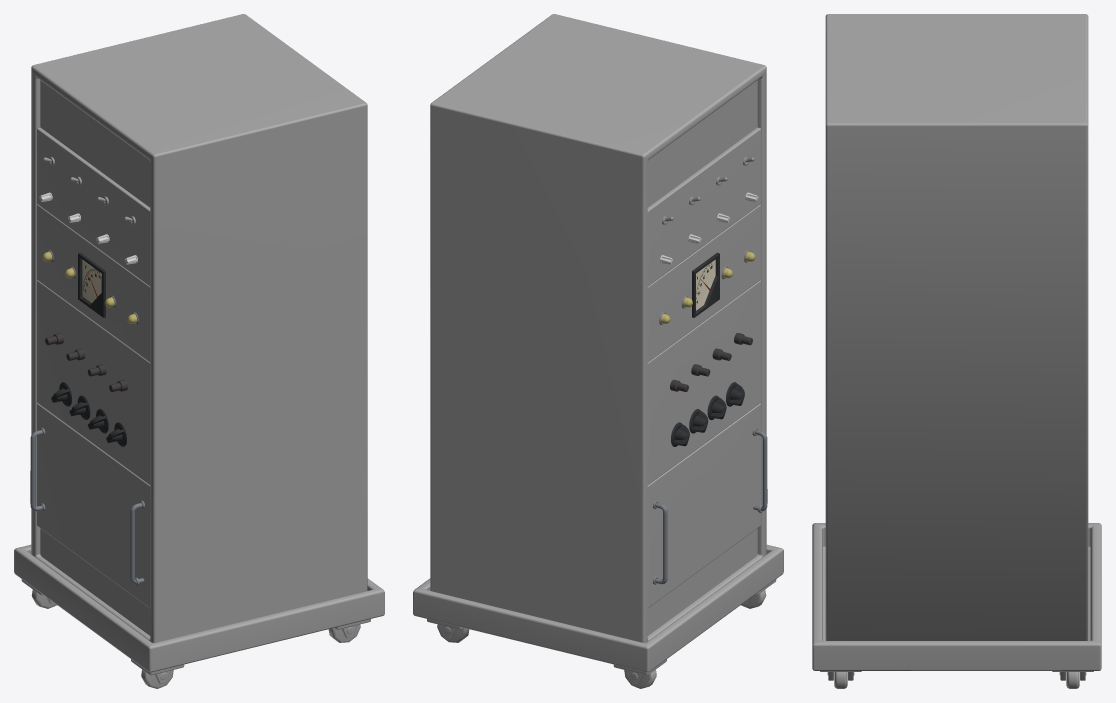
File: SuperCompSmall.fbx
The picture shows the model from 3 angles, left to right: view 1: azimuth 30°, elevation 25°; view 2: azimuth 150°, elevation 25°; view 3: azimuth 270°, elevation 25°; orthographic projection. The views are drawn at different scales.
Visible parts, largest first — view 1: Body, KnobsPack; view 2: Body, KnobsPack; view 3: Body.
Part boxes in pixels (x1,y1,x2,y2): Body: (14,14,384,688); KnobsPack: (43,157,135,446); Body: (413,14,783,688); KnobsPack: (662,157,754,446); Body: (812,14,1101,688).
Bounding box in the file's own units: 111 × 240 × 110.
